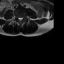CCS_normal: (19, 16, 21, 23)
LFS_severe_stenosis: (23, 15, 25, 19)
LLS_normal: (21, 15, 23, 22)
RFS_severe_stenosis: (16, 15, 18, 20)
RLS_normal: (18, 15, 19, 22)
